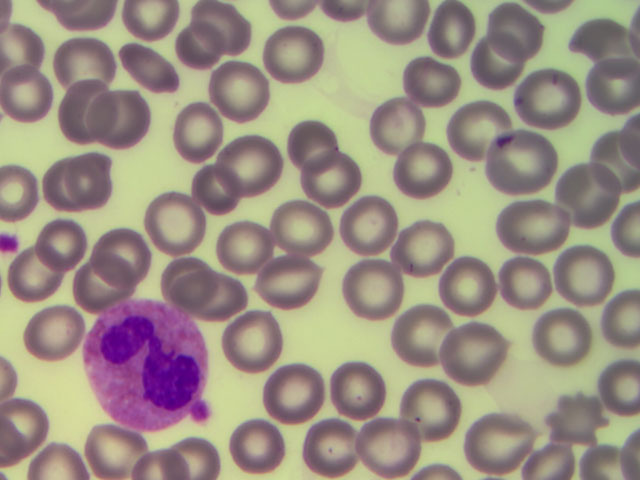Platelets: (1, 230, 19, 253)
RBC: (61, 25, 118, 91), (58, 73, 115, 139), (101, 89, 158, 155), (110, 34, 167, 100), (161, 14, 218, 80), (197, 10, 254, 76), (213, 65, 270, 131), (173, 98, 230, 164), (179, 161, 236, 227), (147, 183, 204, 249), (224, 133, 281, 199), (214, 224, 271, 290), (181, 252, 238, 318), (101, 221, 158, 287), (144, 180, 201, 246), (43, 153, 100, 219), (30, 211, 87, 277), (13, 248, 70, 314), (22, 309, 79, 375), (5, 401, 62, 467), (28, 414, 85, 480), (91, 414, 148, 480), (150, 414, 207, 480), (239, 414, 296, 480), (270, 352, 327, 418), (220, 314, 277, 380), (262, 249, 319, 315), (274, 197, 331, 263), (300, 149, 357, 215), (289, 114, 346, 180), (266, 32, 323, 98), (396, 41, 453, 107), (361, 88, 418, 154), (407, 150, 464, 216), (345, 192, 402, 258), (394, 216, 451, 282), (339, 272, 396, 338), (401, 302, 458, 368), (456, 320, 513, 386), (443, 259, 500, 325), (506, 253, 563, 319), (504, 192, 561, 258), (501, 136, 558, 202), (459, 107, 516, 173), (464, 35, 521, 101), (484, 13, 541, 79), (522, 68, 579, 134), (563, 162, 620, 228), (555, 248, 612, 314), (534, 322, 591, 388), (583, 353, 640, 419), (553, 380, 610, 446), (514, 414, 571, 480), (465, 414, 522, 480), (398, 377, 455, 443), (363, 414, 420, 480), (322, 350, 379, 416), (313, 408, 370, 474), (583, 52, 640, 118), (1, 60, 57, 126)
WBC: (85, 303, 210, 428)
